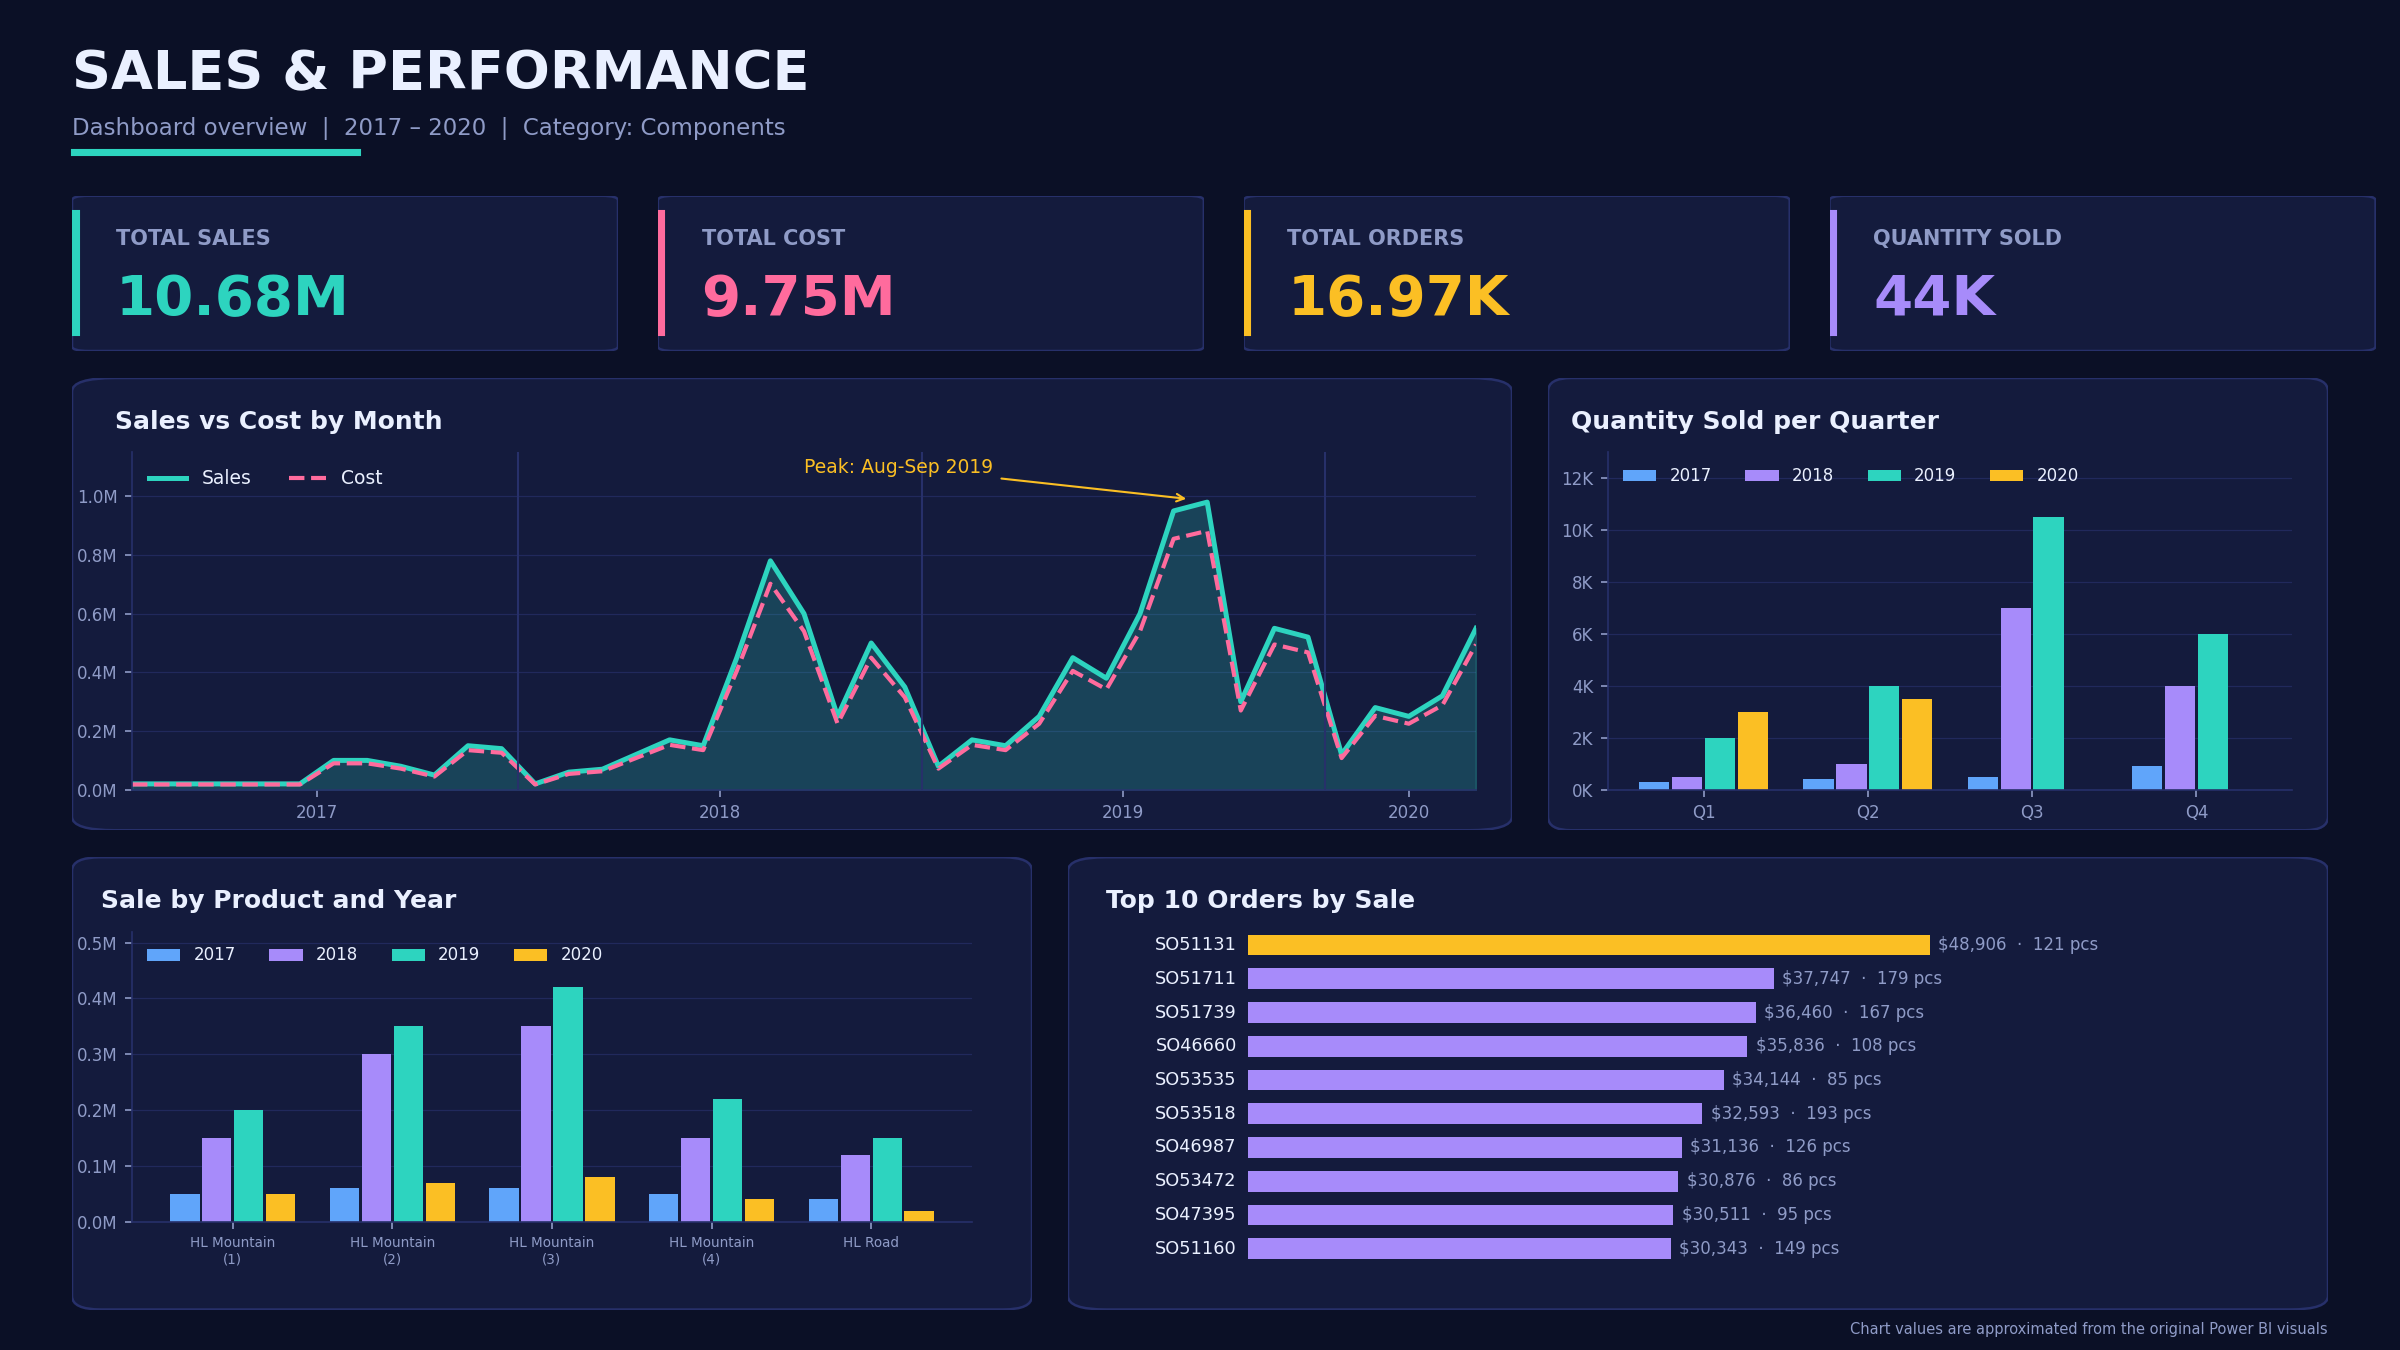

The page's visual inventory and layout, read from the dashboard file:
{"tool":"powerbi","page":{"name":"Product sales Dashboard","canvas":[1313,722],"ordinal":1},"visuals":[{"type":"card","title":"Total sales","fields":{"Values":["Sum(Sales.Sale)"]},"box":[1121,330.4,169.8,113.2],"z":0},{"type":"card","title":"Total Order","fields":{"Values":["CountNonNull(Sales.OrderNumber)"]},"box":[1121,463.7,169.8,118.7],"z":1000},{"type":"card","title":"Total quantity Sold","fields":{"Values":["Sum(Sales.Quantity)"]},"box":[1121,597,169.8,113.2],"z":2000},{"type":"card","title":"Total Cost","fields":{"Values":["Sum(Sales.Cost)"]},"box":[1121,195.3,169.8,116.8],"z":3000},{"type":"pivotTable","fields":{"Rows":["Sales.OrderNumber"],"Values":["Sum(Sales.Quantity)","Sum(Sales.Sale)","Sum(Sales.Cost)"]},"box":[0,76.6,349.4,633.8],"z":4000},{"type":"textbox","box":[0,0,1313,50.6],"z":5000},{"type":"clusteredColumnChart","title":"Sales VS. Cost","fields":{"Category":["Sales.Order Date.Variation.Date Hierarchy.Month"],"Y":["Sum(Sales.Sale)","Sum(Sales.Cost)"],"Rows":["Sales.Order Date.Variation.Date Hierarchy.Year"]},"box":[359.7,361.5,723,348.7],"z":6000},{"type":"clusteredColumnChart","title":"Total Quantity Sold per Quarter (2017–2020)","fields":{"Category":["Sales.Order Date.Variation.Date Hierarchy.Quarter"],"Rows":["Sales.Order Date.Variation.Date Hierarchy.Year"],"Y":["Sum(Sales.Quantity)"]},"box":[737.6,76.7,368.8,262.9],"z":7001},{"type":"clusteredColumnChart","fields":{"Category":["Sales.Product"],"Y":["Sum(Sales.Sale)"],"Rows":["Sales.Order Date.Variation.Date Hierarchy.Year"]},"box":[359.7,76.7,363.3,262.9],"z":7002},{"type":"slicer","fields":{"Values":["Sales.Category"]},"box":[1121,76.7,169.8,98.6],"z":7003}]}

Visuals, with their boxes in screenshot pixels (x1, y1, x2, y2), scaled from the page's 1313x722 canvas onto the 2400x1350 screenshot:
"Total sales" card: (left=2049, top=618, right=2359, bottom=829)
"Total Order" card: (left=2049, top=867, right=2359, bottom=1089)
"Total quantity Sold" card: (left=2049, top=1116, right=2359, bottom=1328)
"Total Cost" card: (left=2049, top=365, right=2359, bottom=584)
pivotTable - Sales.OrderNumber x Sum(Sales.Quantity): (left=0, top=143, right=639, bottom=1328)
textbox: (left=0, top=0, right=2399, bottom=95)
"Sales VS. Cost" clusteredColumnChart: (left=657, top=676, right=1979, bottom=1328)
"Total Quantity Sold per Quarter (2017–2020)" clusteredColumnChart: (left=1348, top=143, right=2022, bottom=635)
clusteredColumnChart - Sales.Product x Sum(Sales.Sale): (left=657, top=143, right=1322, bottom=635)
slicer - Sales.Category: (left=2049, top=143, right=2359, bottom=328)
